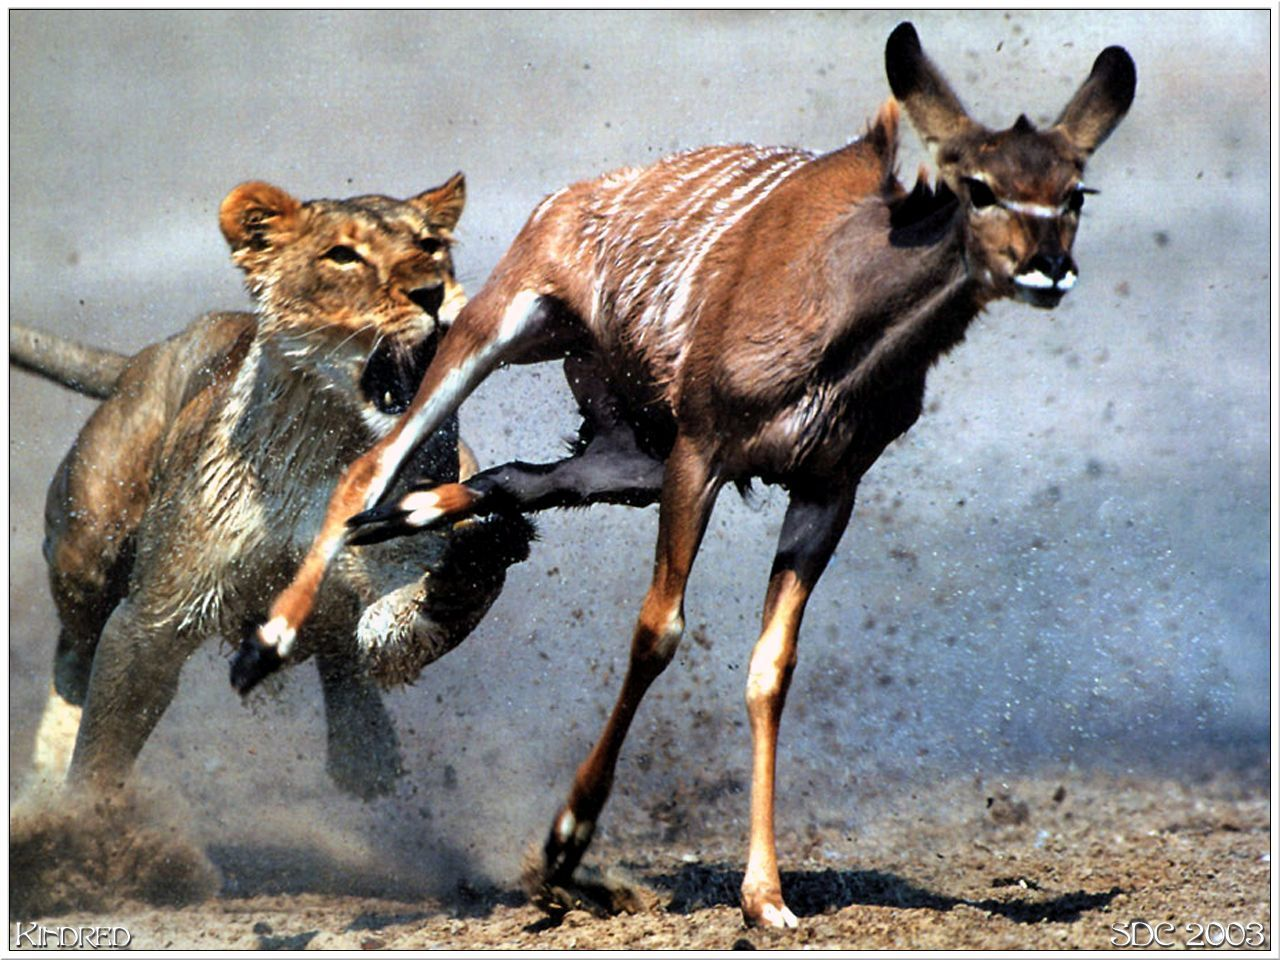Deer: (220, 22, 1140, 934)
lion: (1, 170, 532, 846)
